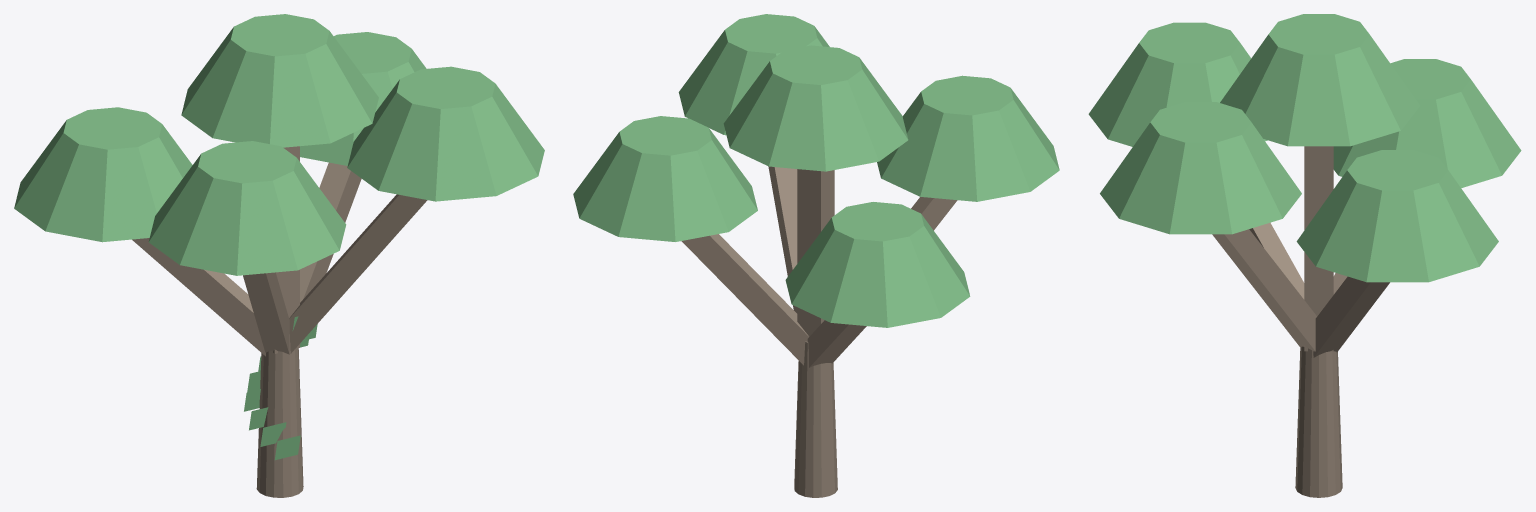
The model's file is pohon_rindang_besar.glb.
The picture shows the model from 3 angles, left to right: view 1: azimuth 30°, elevation 25°; view 2: azimuth 150°, elevation 25°; view 3: azimuth 270°, elevation 25°; orthographic projection. The views are drawn at different scales.
Parts seen in each view (by area): view 1: Tajuk_Daun_Rindang, Batang_Pohon_Rindang, Daun_Monstera_Merambat; view 2: Tajuk_Daun_Rindang, Batang_Pohon_Rindang; view 3: Tajuk_Daun_Rindang, Batang_Pohon_Rindang.
Part boxes in pixels (x1,y1,x2,y2): Tajuk_Daun_Rindang: (14,14,544,275); Batang_Pohon_Rindang: (132,146,427,497); Daun_Monstera_Merambat: (244,316,317,460); Tajuk_Daun_Rindang: (573,14,1059,327); Batang_Pohon_Rindang: (681,166,957,497); Tajuk_Daun_Rindang: (1088,14,1521,282); Batang_Pohon_Rindang: (1212,146,1389,497).
Bounding box in the file's own units: 8.32 × 8.9 × 7.7.
